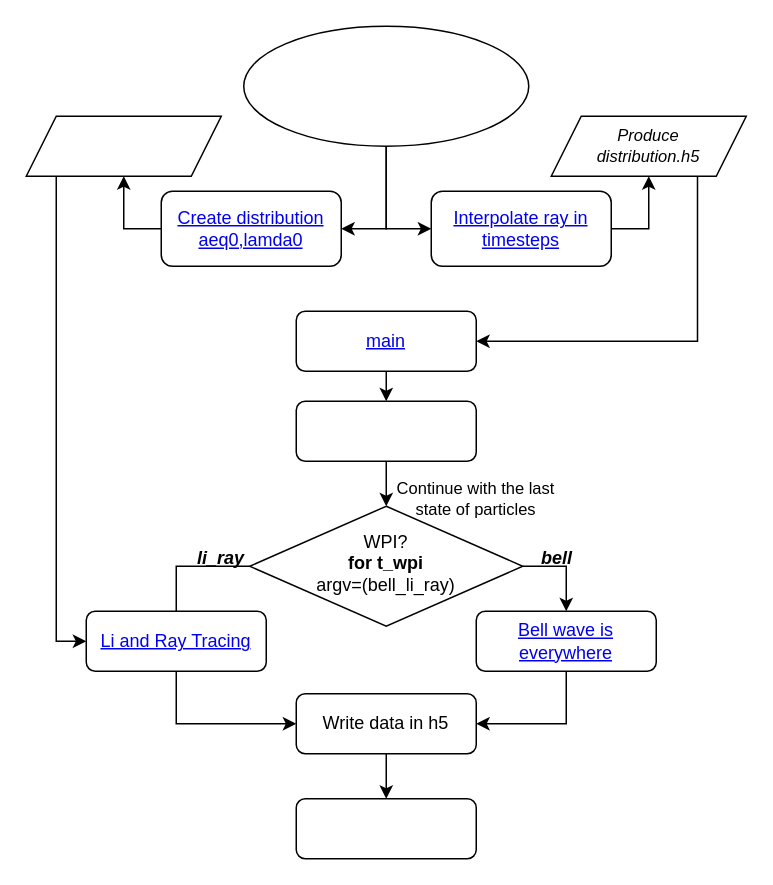
Some shapes in this 773 by 885 pixel diagram are drawn without their labels. Each missing label, with the centre of its shape:
NoWPI for t_nowpi: (385,430)
Produce interpolated_ray.h5: (123,145)
Python Post Processing and Plots: (385,828)
Simulation parameters: (385,85)
